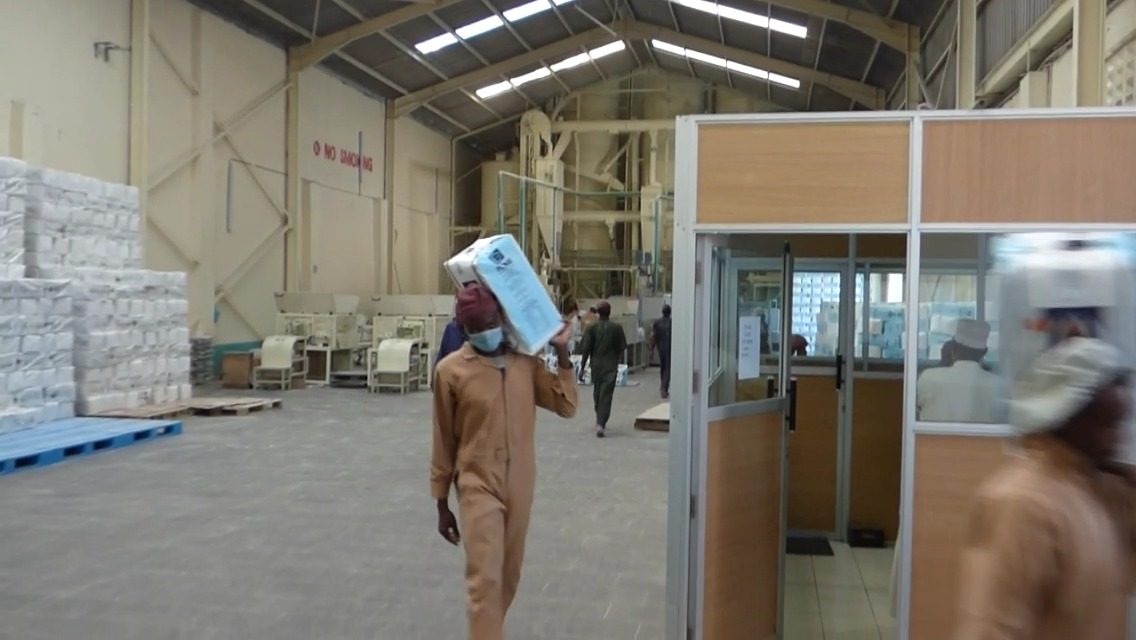wheat_flour_blue_label: (441, 234, 566, 361)
